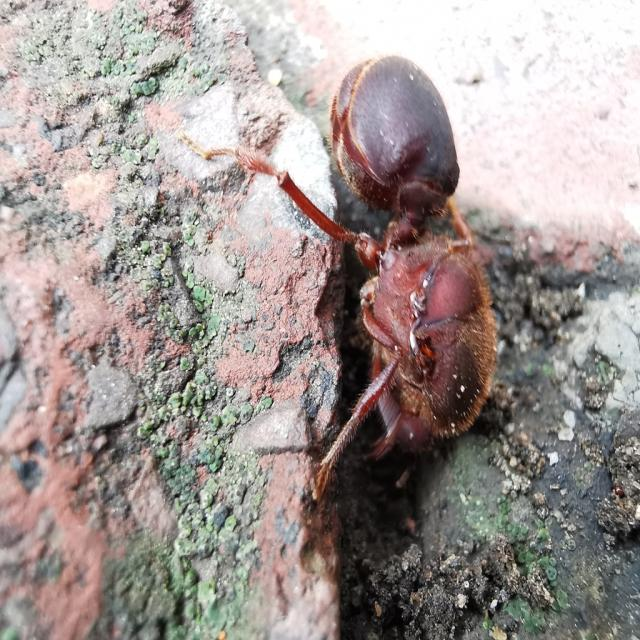Alive-Female-Dealate: (180, 55, 497, 502)
